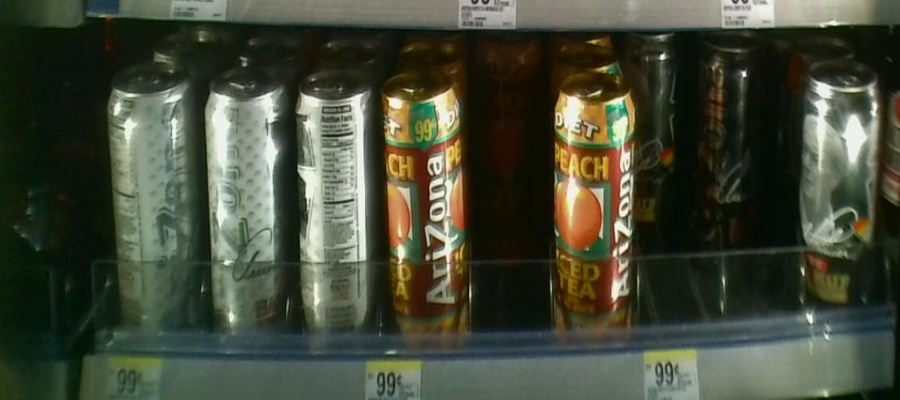bottle: (104, 62, 197, 338), (380, 63, 470, 345), (550, 62, 636, 347), (202, 55, 287, 343), (292, 62, 375, 351), (803, 50, 886, 312), (711, 47, 757, 215), (641, 32, 678, 181)
